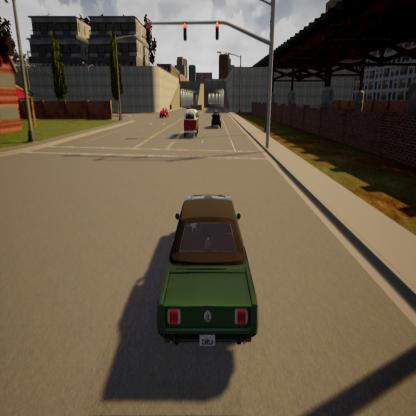Cars: (140, 157, 264, 353), (181, 102, 201, 136), (210, 107, 221, 129), (160, 104, 168, 121)
